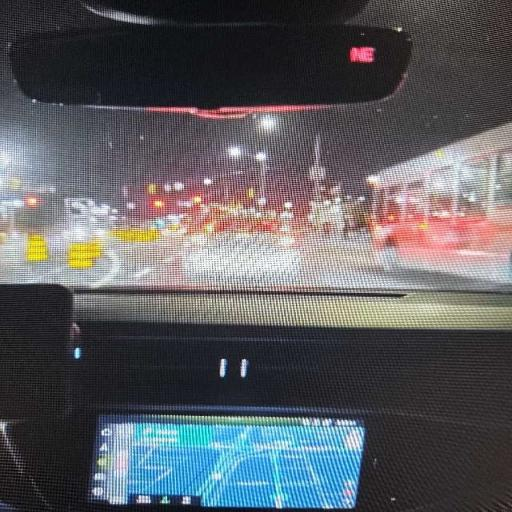car: (0, 0, 511, 511)
lane: (0, 233, 509, 291)
